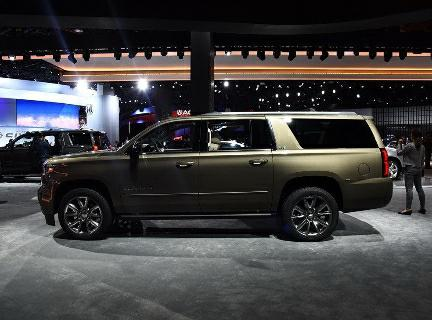雪佛兰-Suburban: (36, 110, 397, 241)
